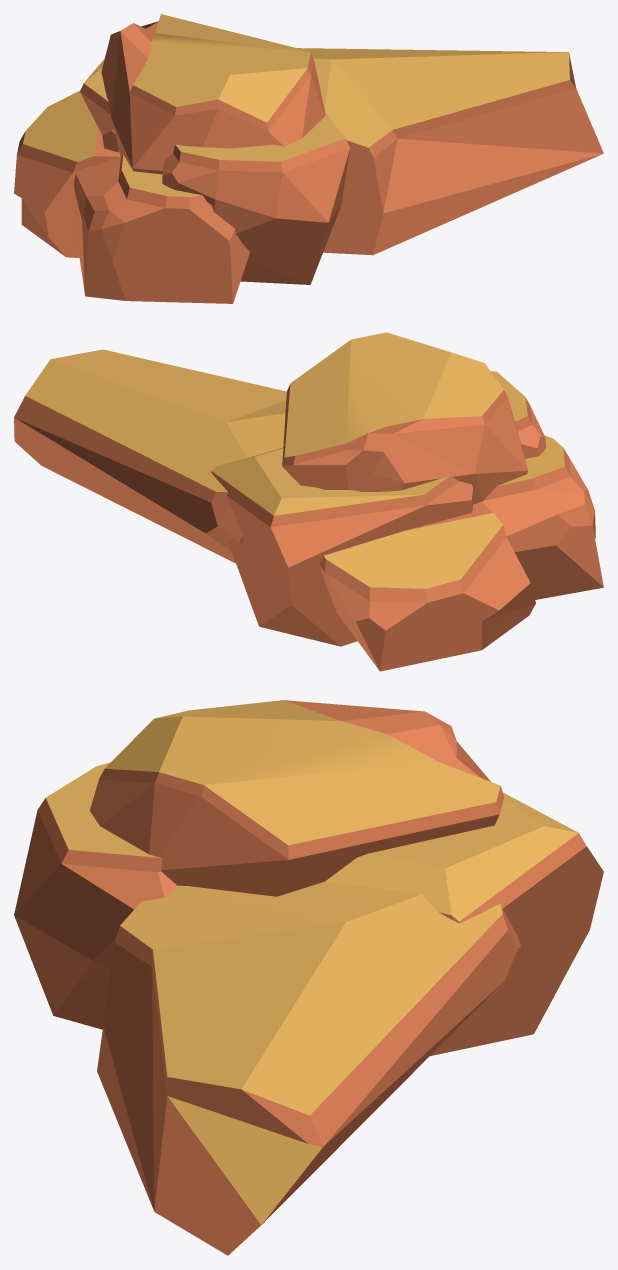
Rendered from rock.fbx.
The picture shows the model from 3 angles, top to bottom: view 1: azimuth 30°, elevation 25°; view 2: azimuth 150°, elevation 25°; view 3: azimuth 270°, elevation 25°; orthographic projection. The views are drawn at different scales.
Parts seen in each view (by area): view 1: rock; view 2: rock; view 3: rock.
Part boxes in pixels (x1,y1,x2,y2): rock: (14,14,603,303); rock: (14,332,603,671); rock: (14,700,603,1255).
Size of the model in its own units: 2055 by 691 by 1350.
